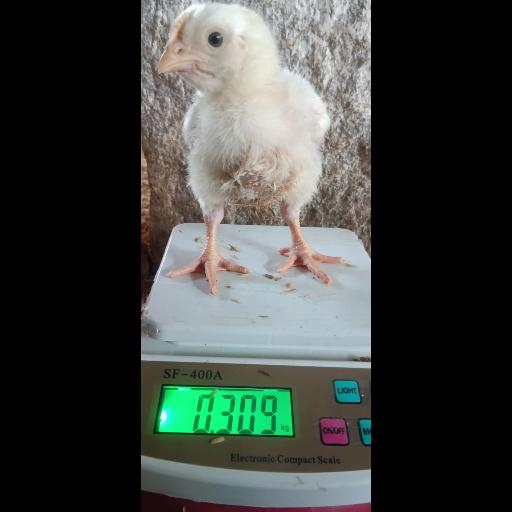chick: (160, 3, 349, 294)
